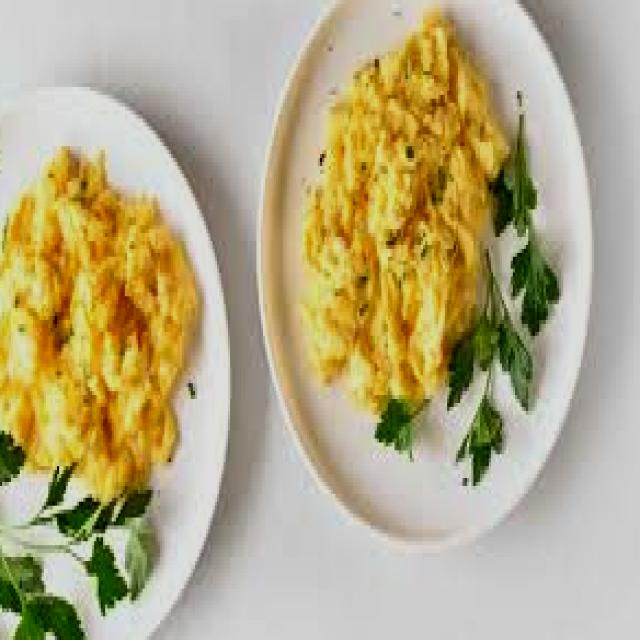telur_orak_arik: (305, 43, 513, 416), (0, 150, 202, 506)
